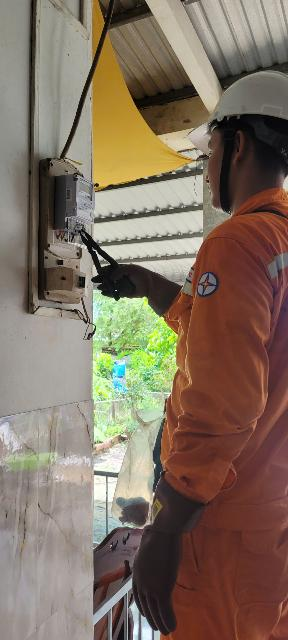gloves: (103, 447, 214, 629), (87, 248, 181, 322)
helmet: (171, 41, 288, 149)
